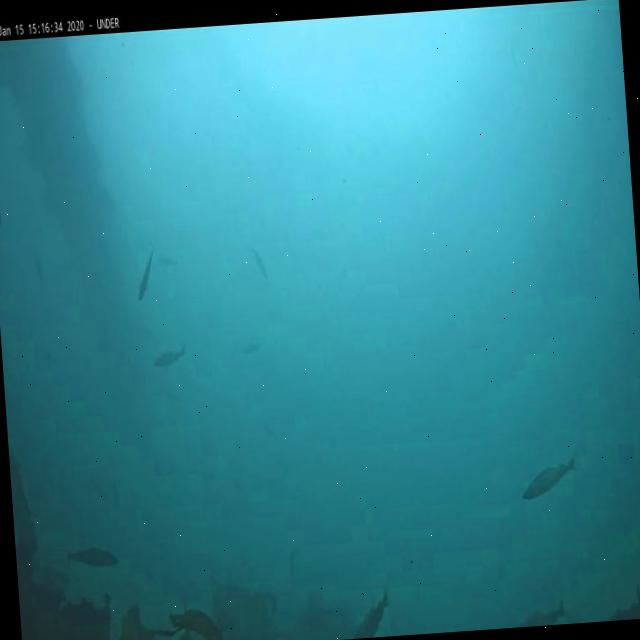fish: (520, 456, 578, 500), (352, 587, 391, 637), (66, 546, 123, 570), (134, 253, 156, 300), (519, 603, 566, 624), (249, 247, 269, 285), (151, 346, 186, 366)
